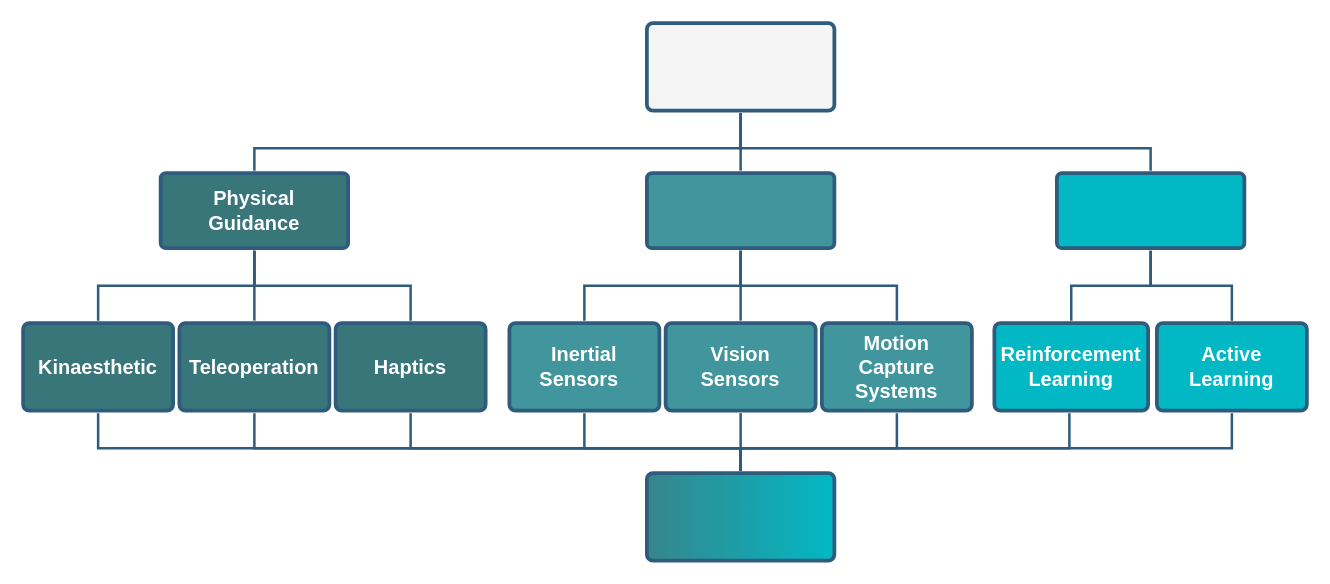
Image size: 1330x584. Some labels were removed from this diagram. The shapes that lost their labels are listed below. From the top down, each one's centre as x and y in pixels, then its label:
pixel 740 66: Demonstration
pixel 740 210: Observable Guidance
pixel 1150 210: Reactive Guidance
pixel 740 516: Multimodal Guidance
